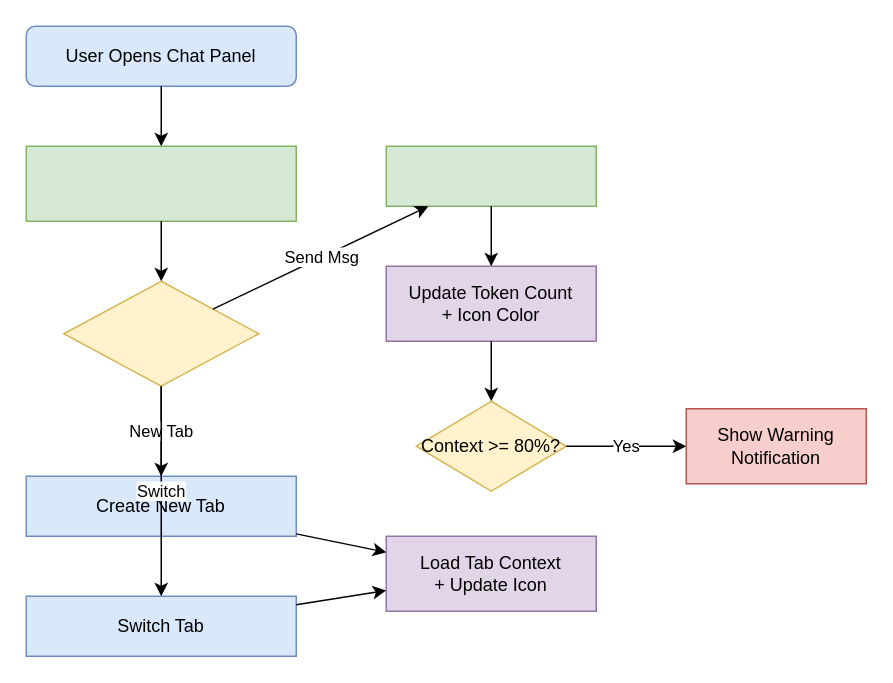
Image size: 893x683. Some labels were removed from this diagram. The shapes that lost their labels are listed below. From the top down, each one's centre as x and y in pixels, then its label:
At pixel 160 183: "System Shows Active Tab + Context Usage Icon".
At pixel 490 175: "Send Message".
At pixel 160 333: "User Action?".
